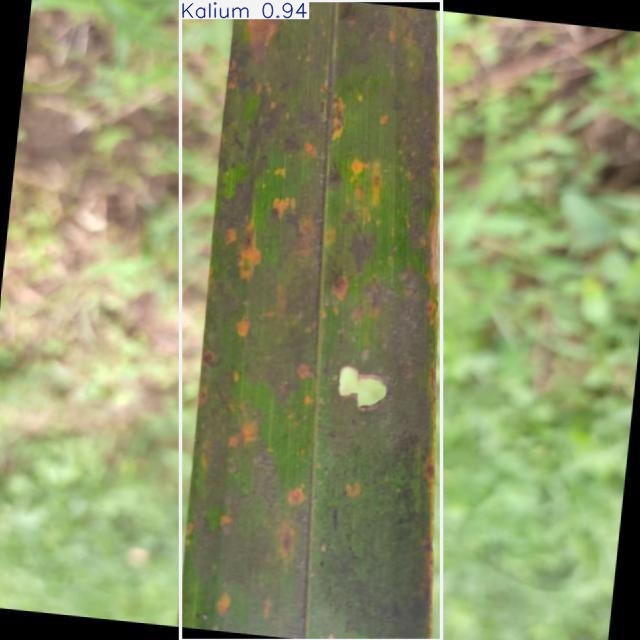Kalium: (181, 0, 441, 640)
